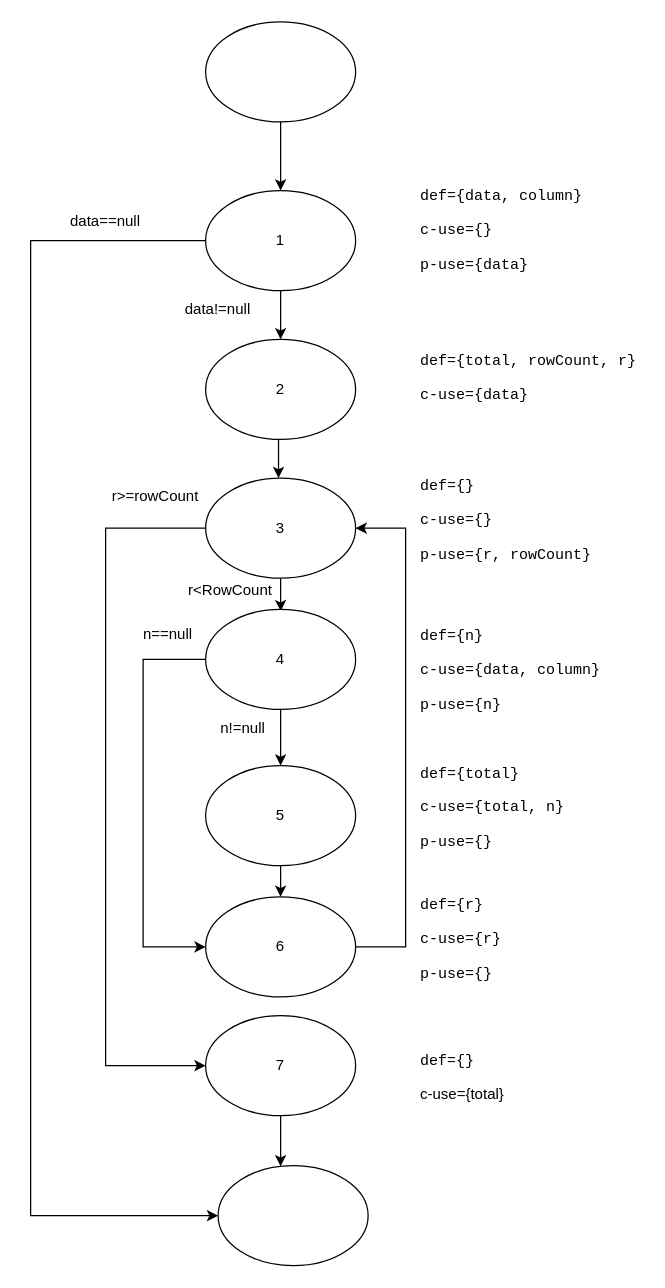
Image size: 665x1288. Some labels were removed from this diagram. Each missing label, with the box of its shape:
End: (217, 1164, 368, 1266)
Start: (204, 21, 356, 122)
